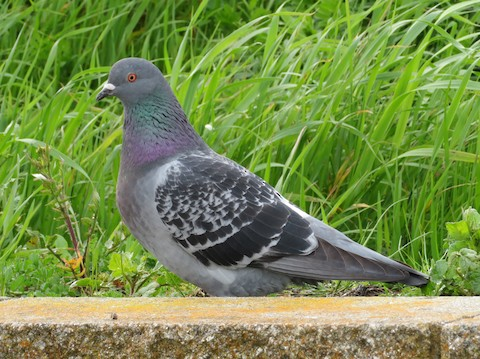pigeon: (94, 54, 438, 301)
